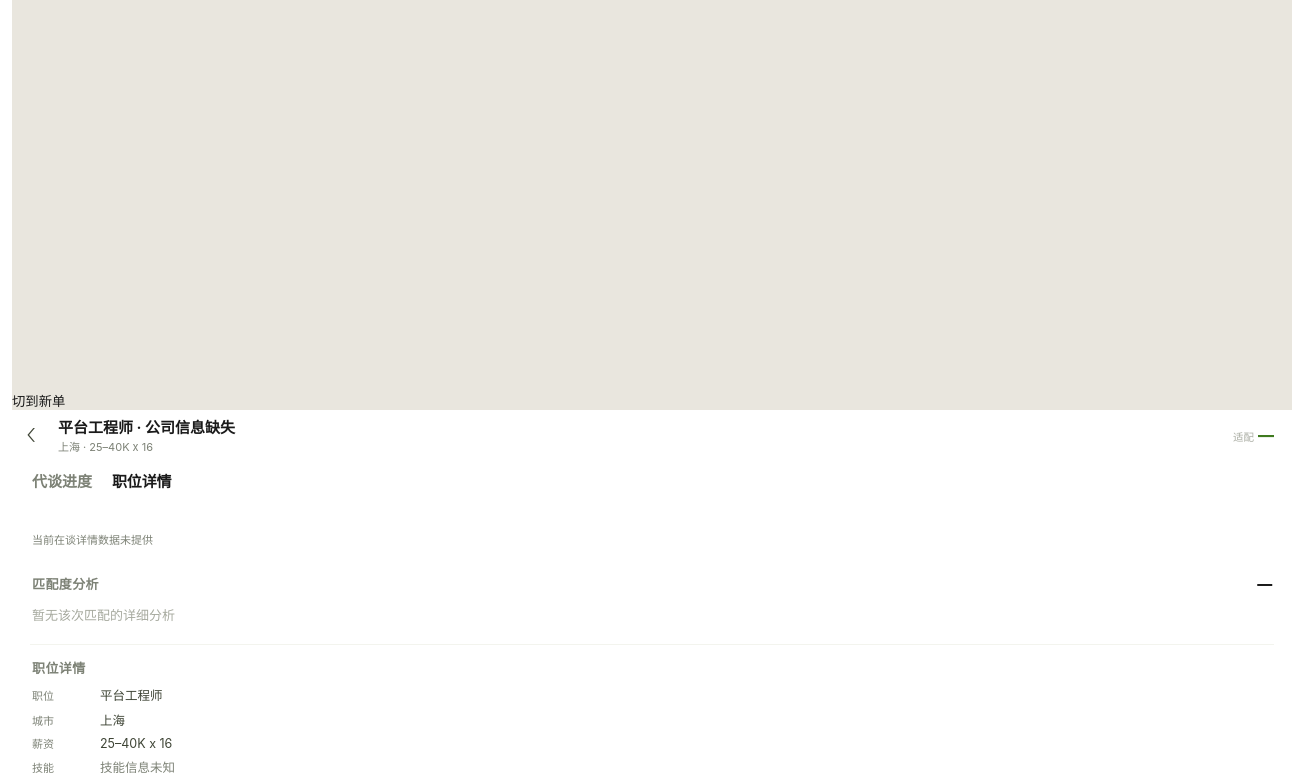
Test: MatchCase详情 · J-PILOT-01 Task 5 候选连续承接 › 深链 ?tab=job 首开即资料 Tab；换 record（新地址无 query）回进度
This screenshot has width=1292, height=783.
(page scrolled)
expect the text "当前在谈详情数据未提供" is shown: met, box 32,533 -> 153,547
expect the text "初评中" is not shown: met
Step 1. Click the button "切到新单" → (39,400), box 12,391 -> 65,410
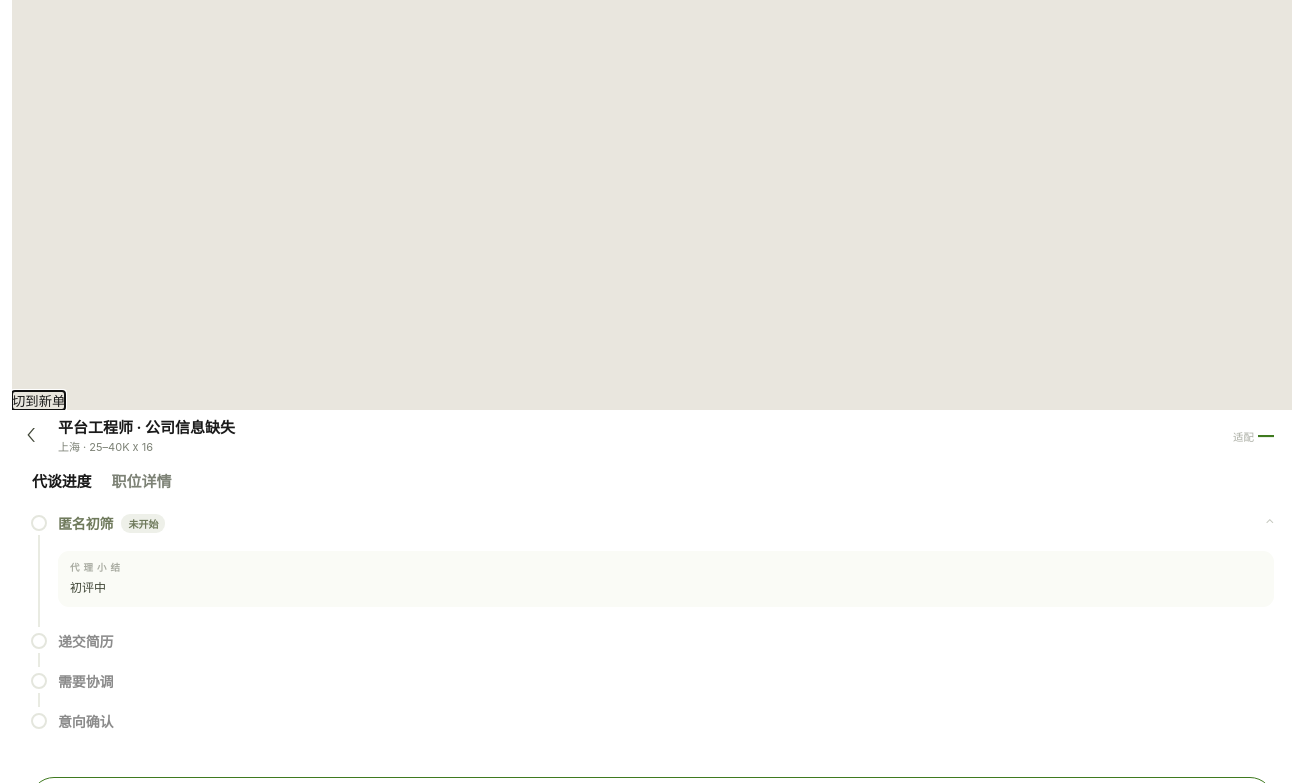
expect the text "初评中" is shown: met, box 70,580 -> 106,595
